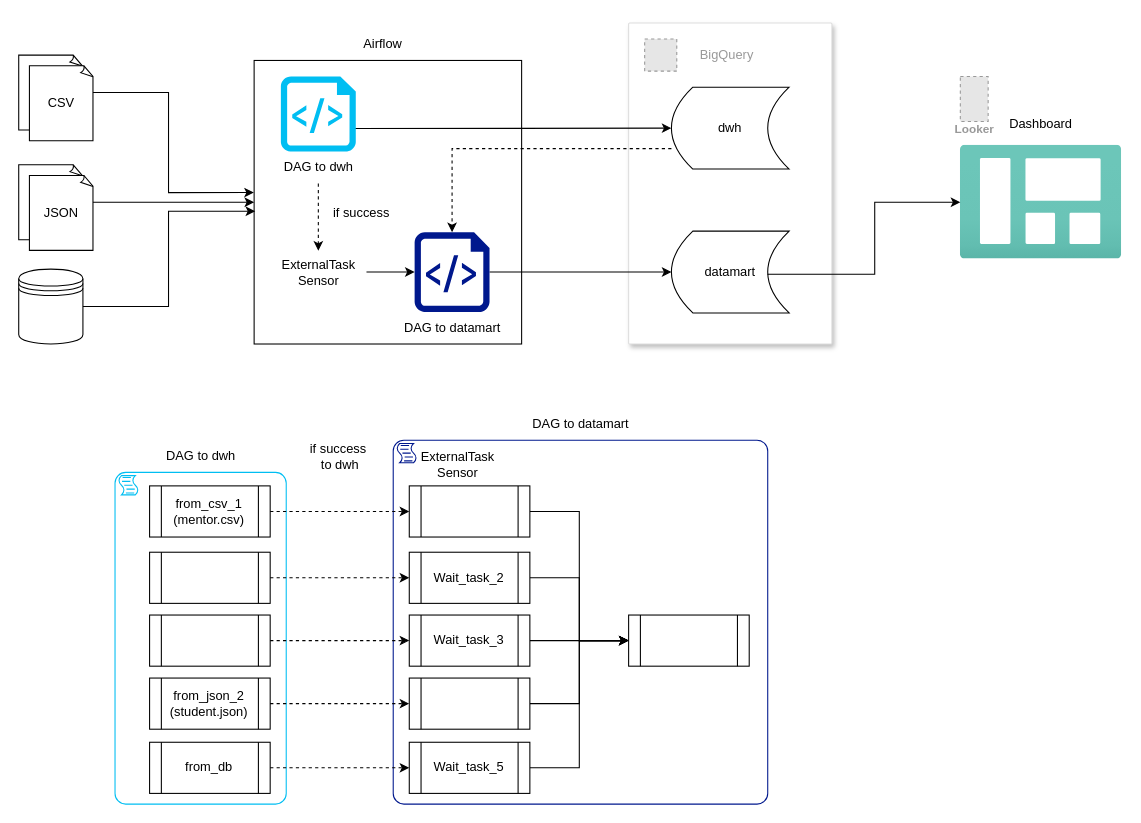
Image size: 1141x823. Some labels were removed from this diagram. Grey dashed boxes stand in for pictures. The centre of each missing label's shape, as x and y in pixels:
create datamart table: the point at 688,640
from_csv_2 (course_ category.csv): the point at 209,577
from_json_1 (course.json): the point at 209,640
Postgres: the point at 50,306
Wait_task_1: the point at 469,511
Wait_task_4: the point at 469,703
